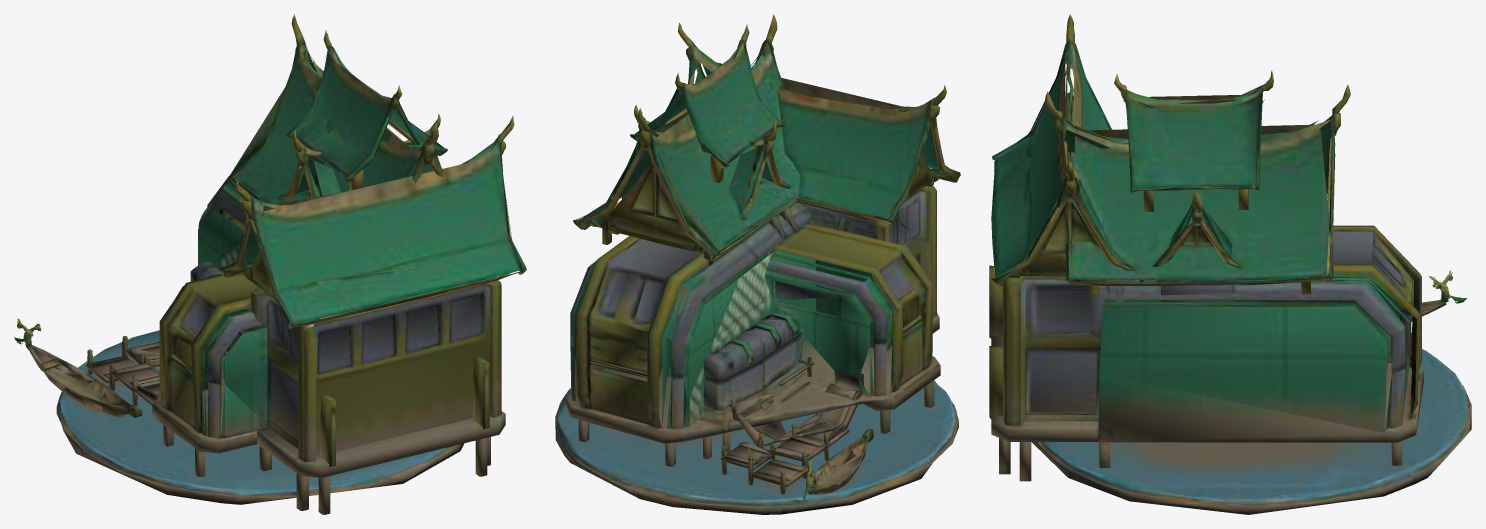
File: corsair_barracks.glb
3 renders of one model, left to right at view 1: azimuth 30°, elevation 25°; view 2: azimuth 150°, elevation 25°; view 3: azimuth 270°, elevation 25°, orthographic. The views are drawn at different scales.
Visible parts, largest first — view 1: Body, Trim; view 2: Body, Trim; view 3: Body, Trim.
Part boxes in pixels (box(x1,y1,x2,y2)): Body: box(14, 14, 526, 514); Trim: box(187, 45, 526, 425); Body: box(555, 14, 960, 514); Trim: box(570, 45, 939, 427); Body: box(989, 14, 1471, 514); Trim: box(991, 43, 1409, 432).
Size of the model in its own units: 9.48 by 9.06 by 10.22.
2 materials, 2 textured.
